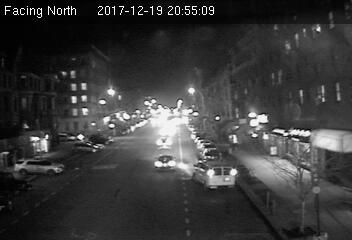car: (154, 154, 176, 171), (155, 136, 173, 147)
truck: (190, 160, 238, 192)
